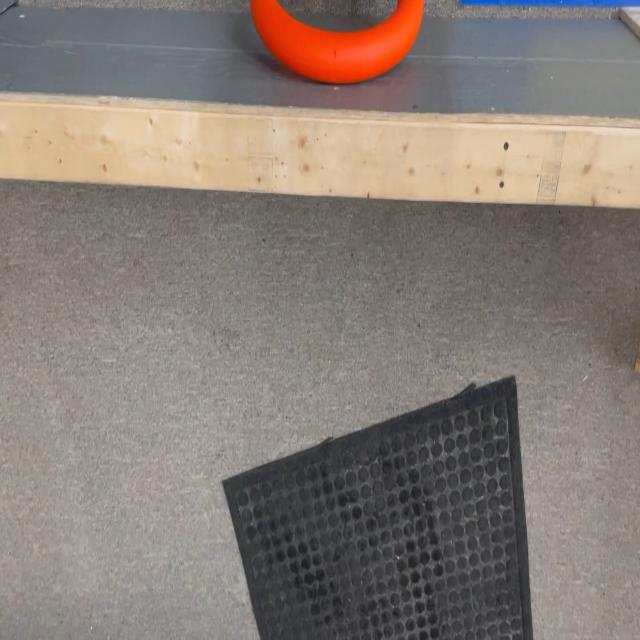note: (241, 0, 427, 79)
